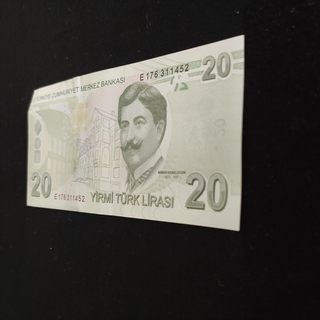20TLBack: (25, 34, 246, 231)
